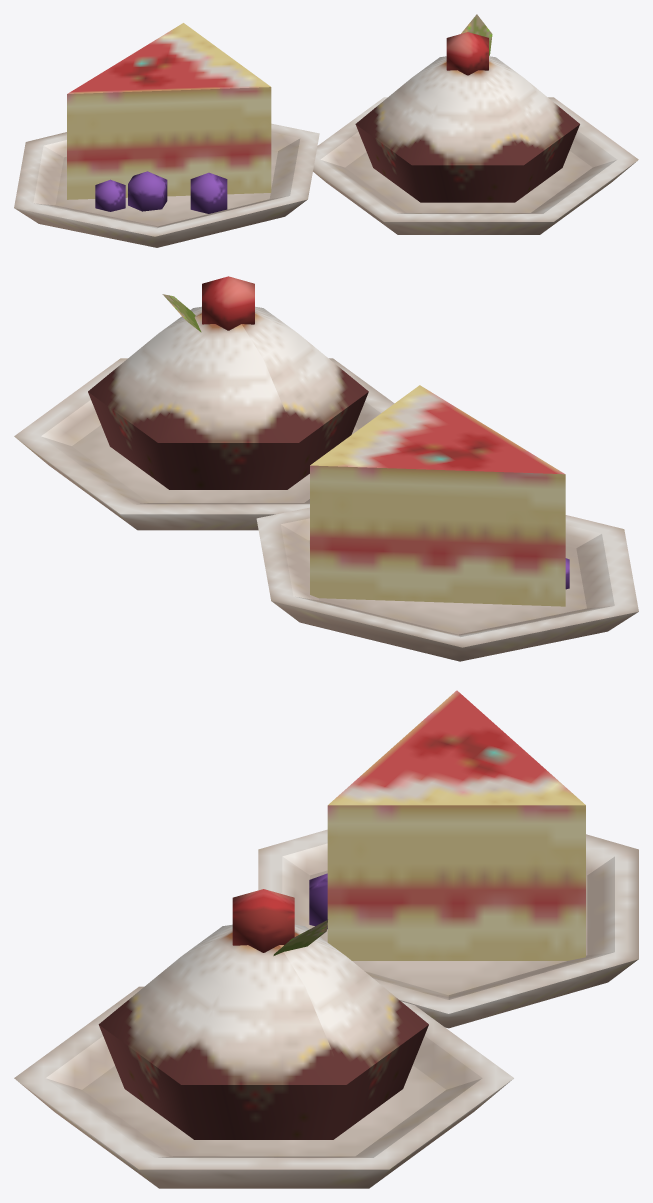
Rendered from cafa_jz003_06.FBX.
3 views of the same model, one above another, from view 1: azimuth 30°, elevation 25°; view 2: azimuth 150°, elevation 25°; view 3: azimuth 270°, elevation 25° (orthographic). The views are drawn at different scales.
Visible parts, largest first — view 1: cafa_jz003_06; view 2: cafa_jz003_06; view 3: cafa_jz003_06.
Part boxes in pixels (bbox=[...]): cafa_jz003_06: bbox=[14, 14, 638, 247]; cafa_jz003_06: bbox=[14, 276, 638, 661]; cafa_jz003_06: bbox=[14, 690, 638, 1188].
Bounding box in the file's own units: 0.492 × 0.1428 × 0.3484.
Materials: 1 (1 with a texture image).
